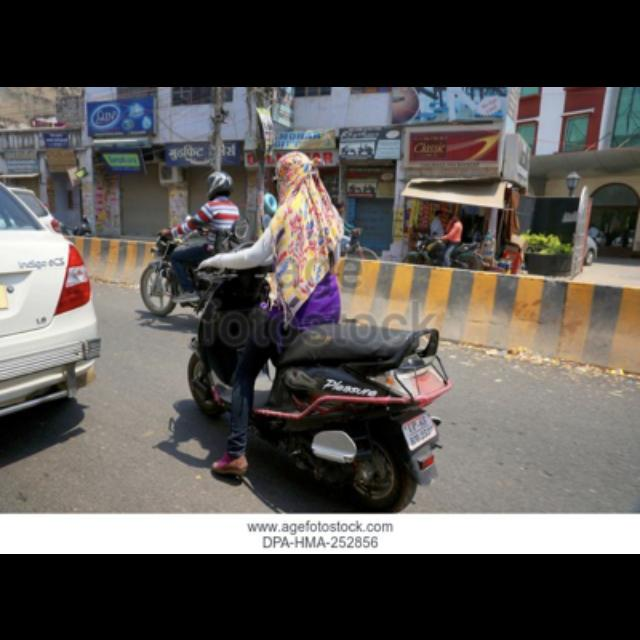Without Helmet: (270, 148, 320, 194)
